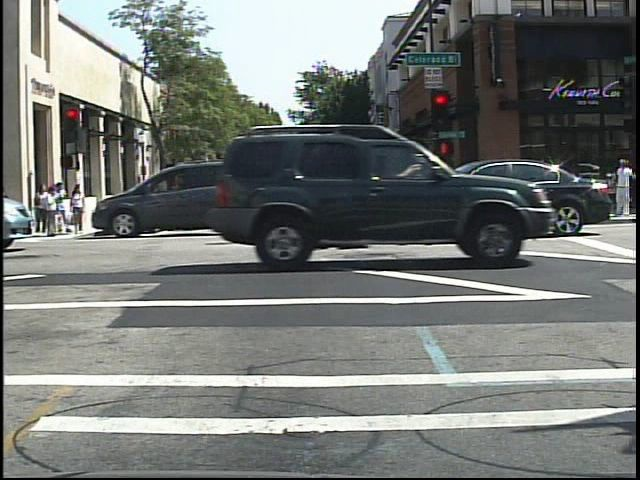person: (611, 155, 637, 220), (165, 181, 183, 221)
